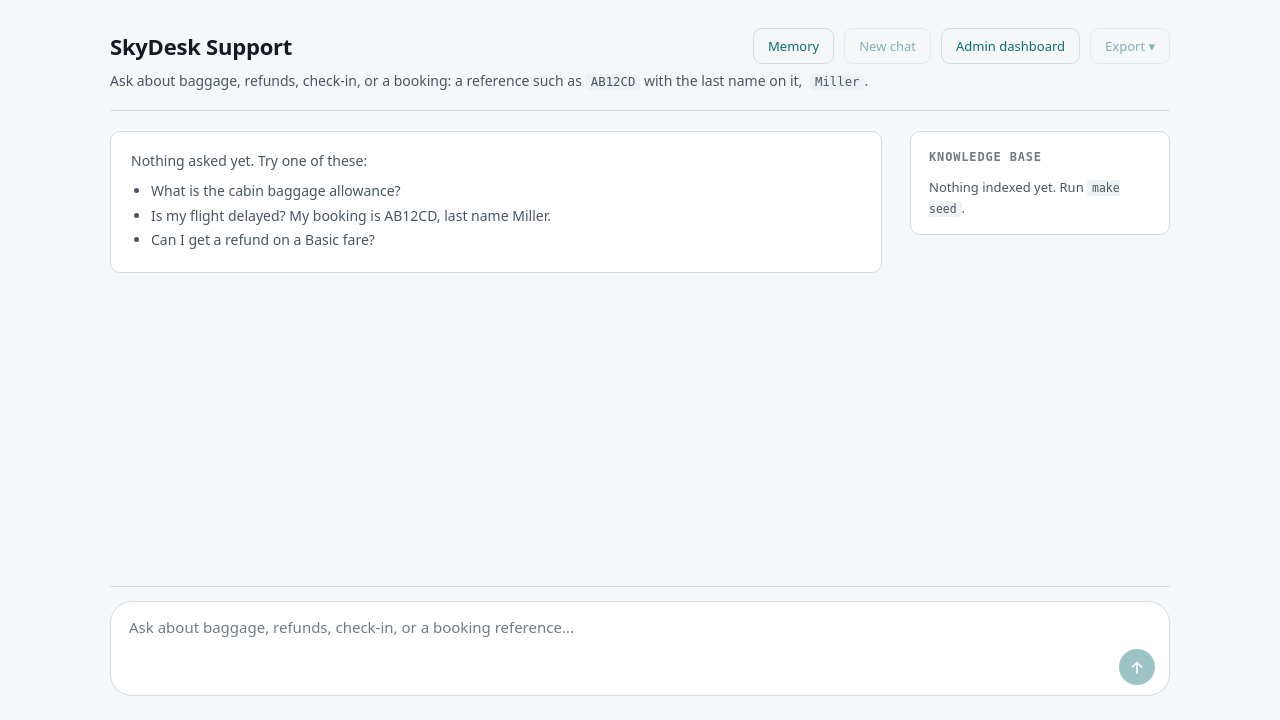
Test case: a successful turn › shows the question, the streamed answer, and the tool that ran
expect the text "Nothing indexed yet. Run make seed." is shown: met, box [929, 177, 1151, 218]
Replace the text in the text box named "Your message" with "Is my flight delayed?". click: (640, 627)
box: [125, 614, 1155, 641]
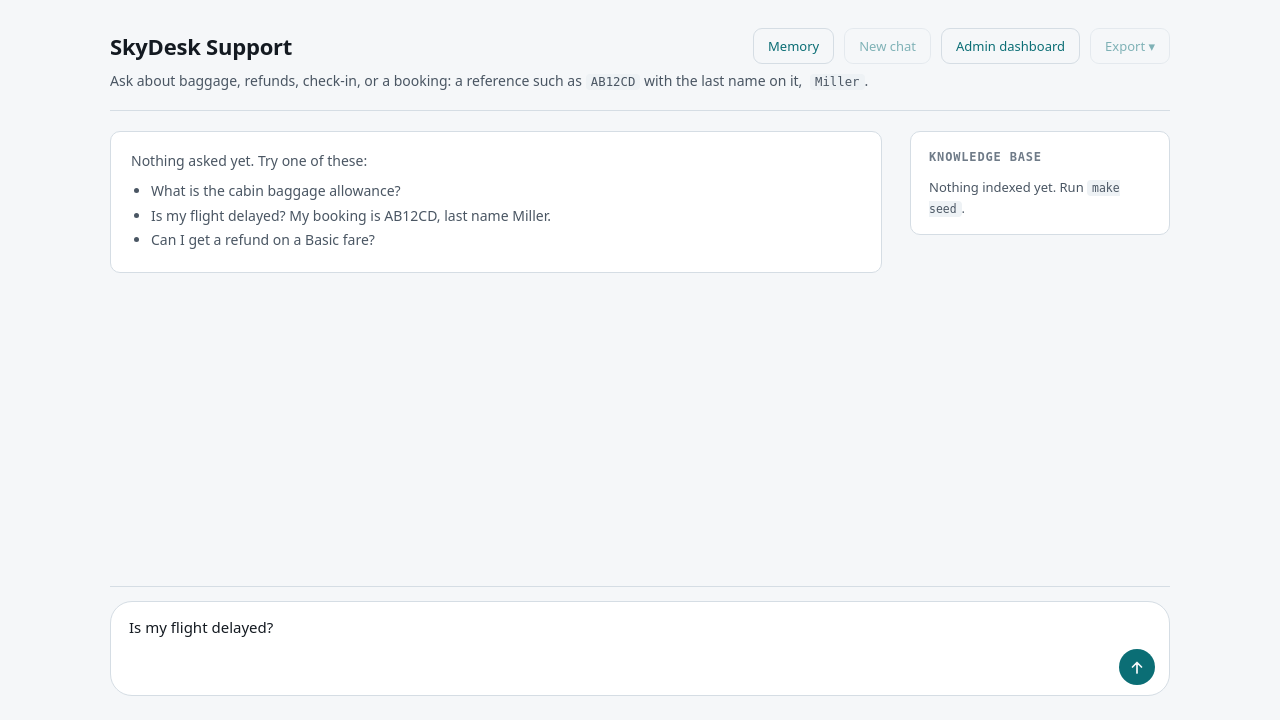
Click the button named "Send". click: (1137, 667)
box: [1119, 649, 1155, 685]
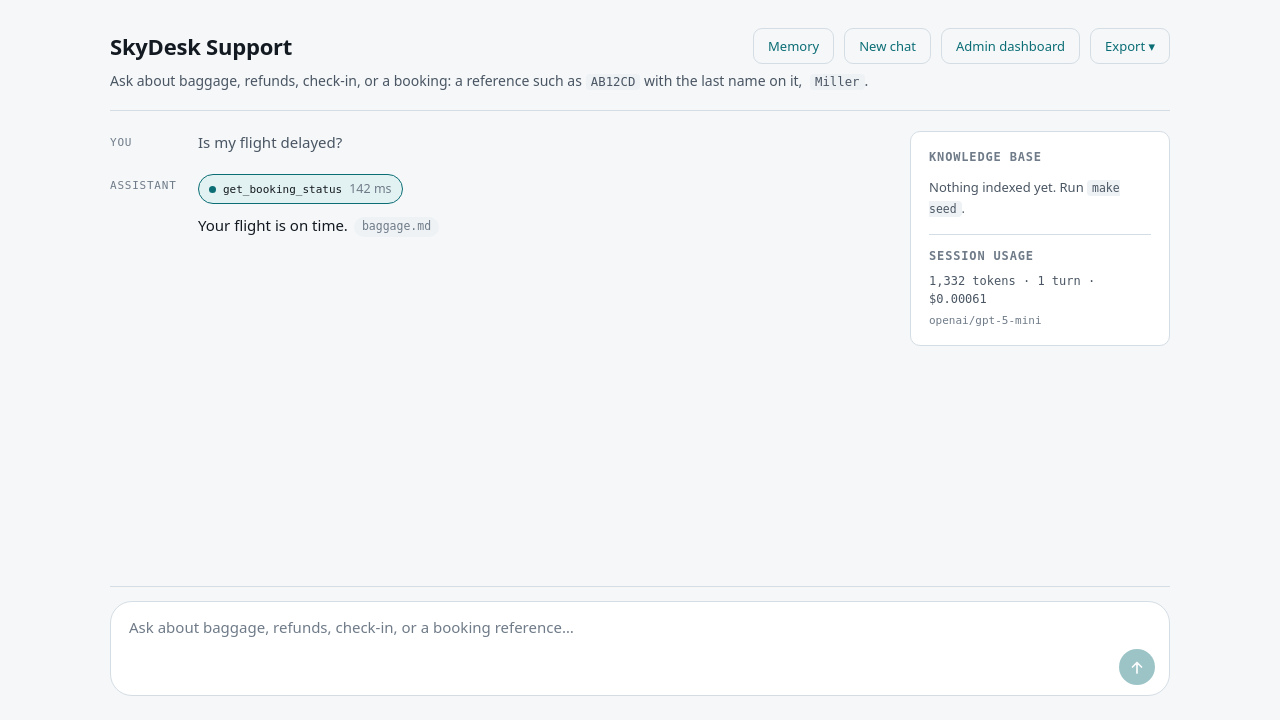
expect the text "Your flight is on time." is shown: met, box [198, 215, 348, 235]
expect the text "get_booking_status" is shown: met, box [223, 181, 342, 198]
expect the text "142 ms" is shown: met, box [349, 180, 392, 199]
